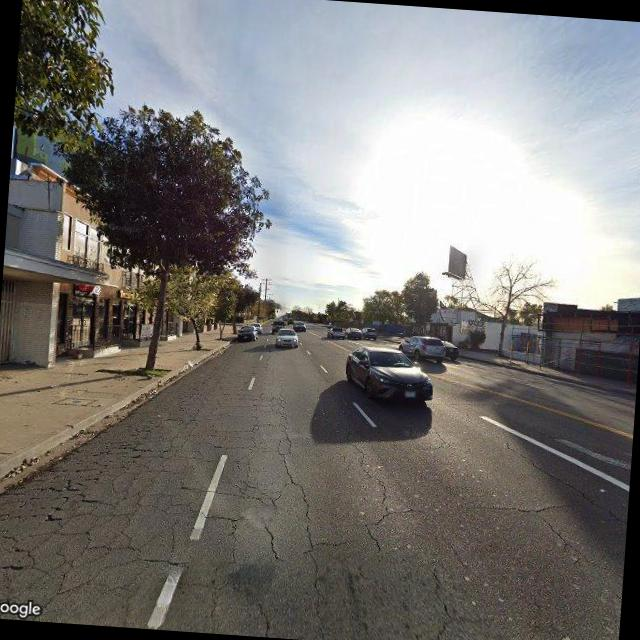crack: (0, 382, 457, 640)
pothole: (458, 412, 632, 518), (528, 508, 602, 569), (420, 559, 458, 640)
